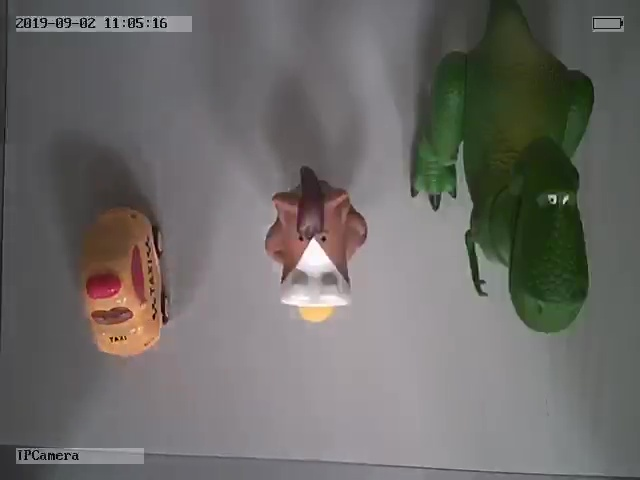car: (76, 205, 173, 357)
horse: (263, 165, 368, 325)
rex: (408, 3, 596, 332)
